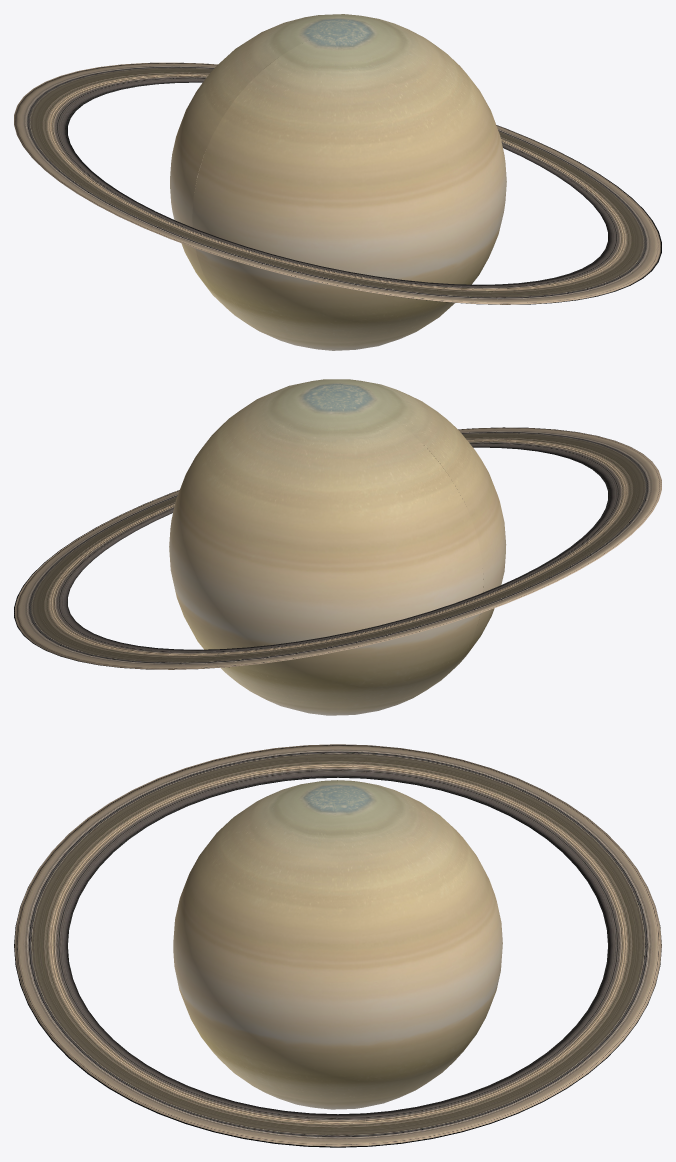
The model's file is saturn.glb.
The picture shows the model from 3 angles, top to bottom: view 1: azimuth 30°, elevation 25°; view 2: azimuth 150°, elevation 25°; view 3: azimuth 270°, elevation 25°; orthographic projection. The views are drawn at different scales.
Parts seen in each view (by area): view 1: Sphere_Material.002_0.003, Circle; view 2: Sphere_Material.002_0.003, Circle; view 3: Sphere_Material.002_0.003, Circle.
Boxes of the visible parts, bbox=[...] form: Sphere_Material.002_0.003: bbox=[170, 14, 506, 350]; Circle: bbox=[14, 62, 661, 304]; Sphere_Material.002_0.003: bbox=[169, 379, 506, 715]; Circle: bbox=[14, 427, 661, 669]; Sphere_Material.002_0.003: bbox=[173, 780, 502, 1109]; Circle: bbox=[14, 744, 661, 1147].
Size of the model in its own units: 18.49 by 9.68 by 19.01.
2 materials, 2 textured.
